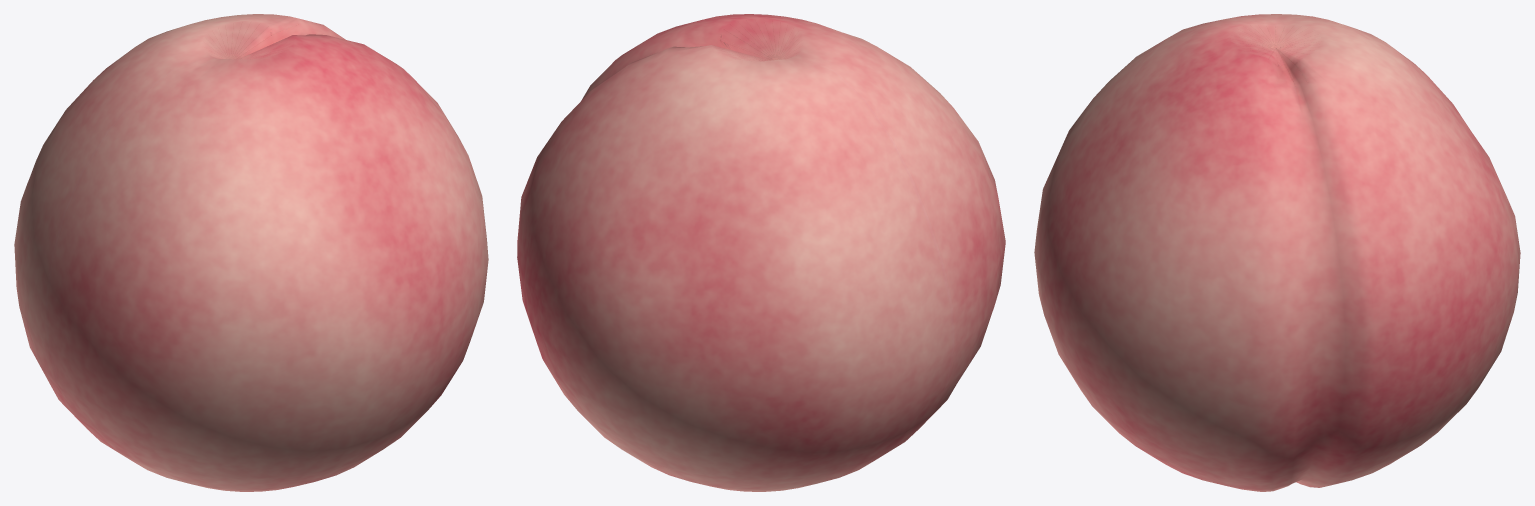
File: peach.fbx
The picture shows the model from 3 angles, left to right: view 1: azimuth 30°, elevation 25°; view 2: azimuth 150°, elevation 25°; view 3: azimuth 270°, elevation 25°; orthographic projection.
Visible parts, largest first — view 1: peach; view 2: peach; view 3: peach.
Part boxes in pixels (left/top/right/bottom): peach: left=14, top=14, right=488, bottom=491; peach: left=517, top=14, right=1005, bottom=491; peach: left=1034, top=14, right=1520, bottom=491.
Bounding box in the file's own units: 7.61 × 7.67 × 7.88.
Materials: 1 (1 with a texture image).
